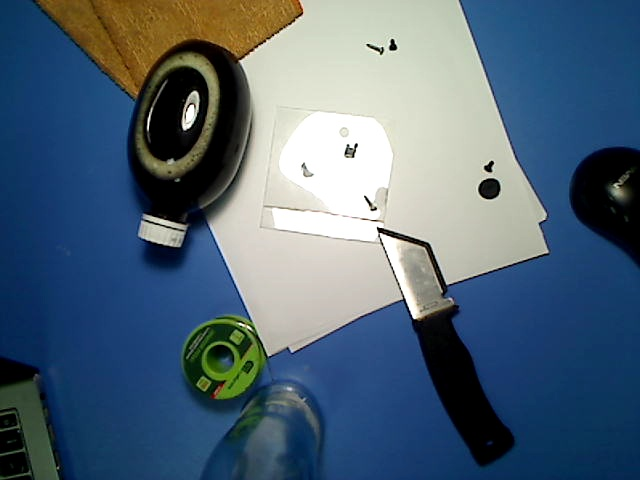plast_bottle: (123, 34, 255, 253)
